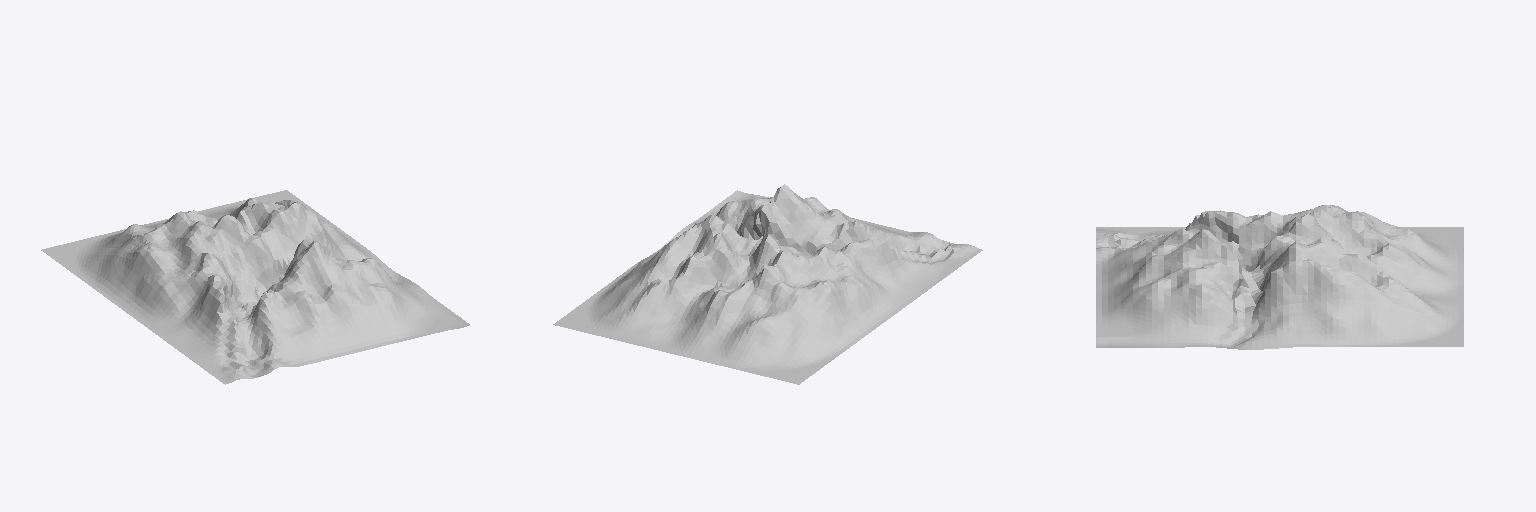
File: mountain.obj
3 renders of one model, left to right at view 1: azimuth 30°, elevation 25°; view 2: azimuth 150°, elevation 25°; view 3: azimuth 270°, elevation 25°, orthographic.
Visible parts, largest first — view 1: Landscape; view 2: Landscape; view 3: Landscape.
Boxes of the visible parts, box(x1,y1,x2,y2) form: Landscape: box(41, 190, 469, 384); Landscape: box(553, 184, 982, 384); Landscape: box(1096, 205, 1463, 349).
Bounding box in the file's own units: 7.59 × 2.21 × 9.84.